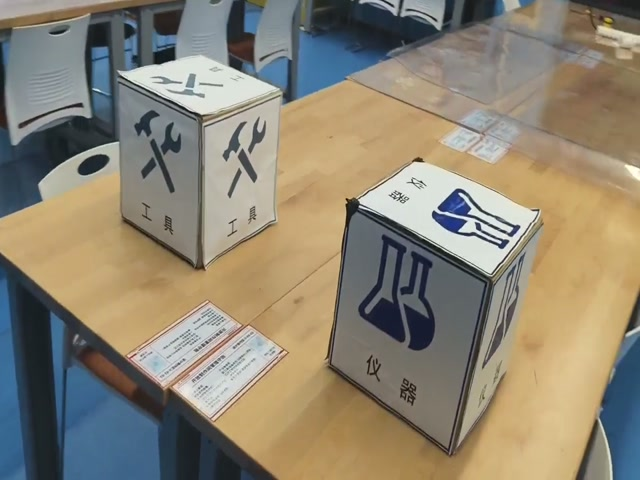Cube_ins: (347, 159, 541, 288)
Cube_tool: (118, 56, 281, 127)
